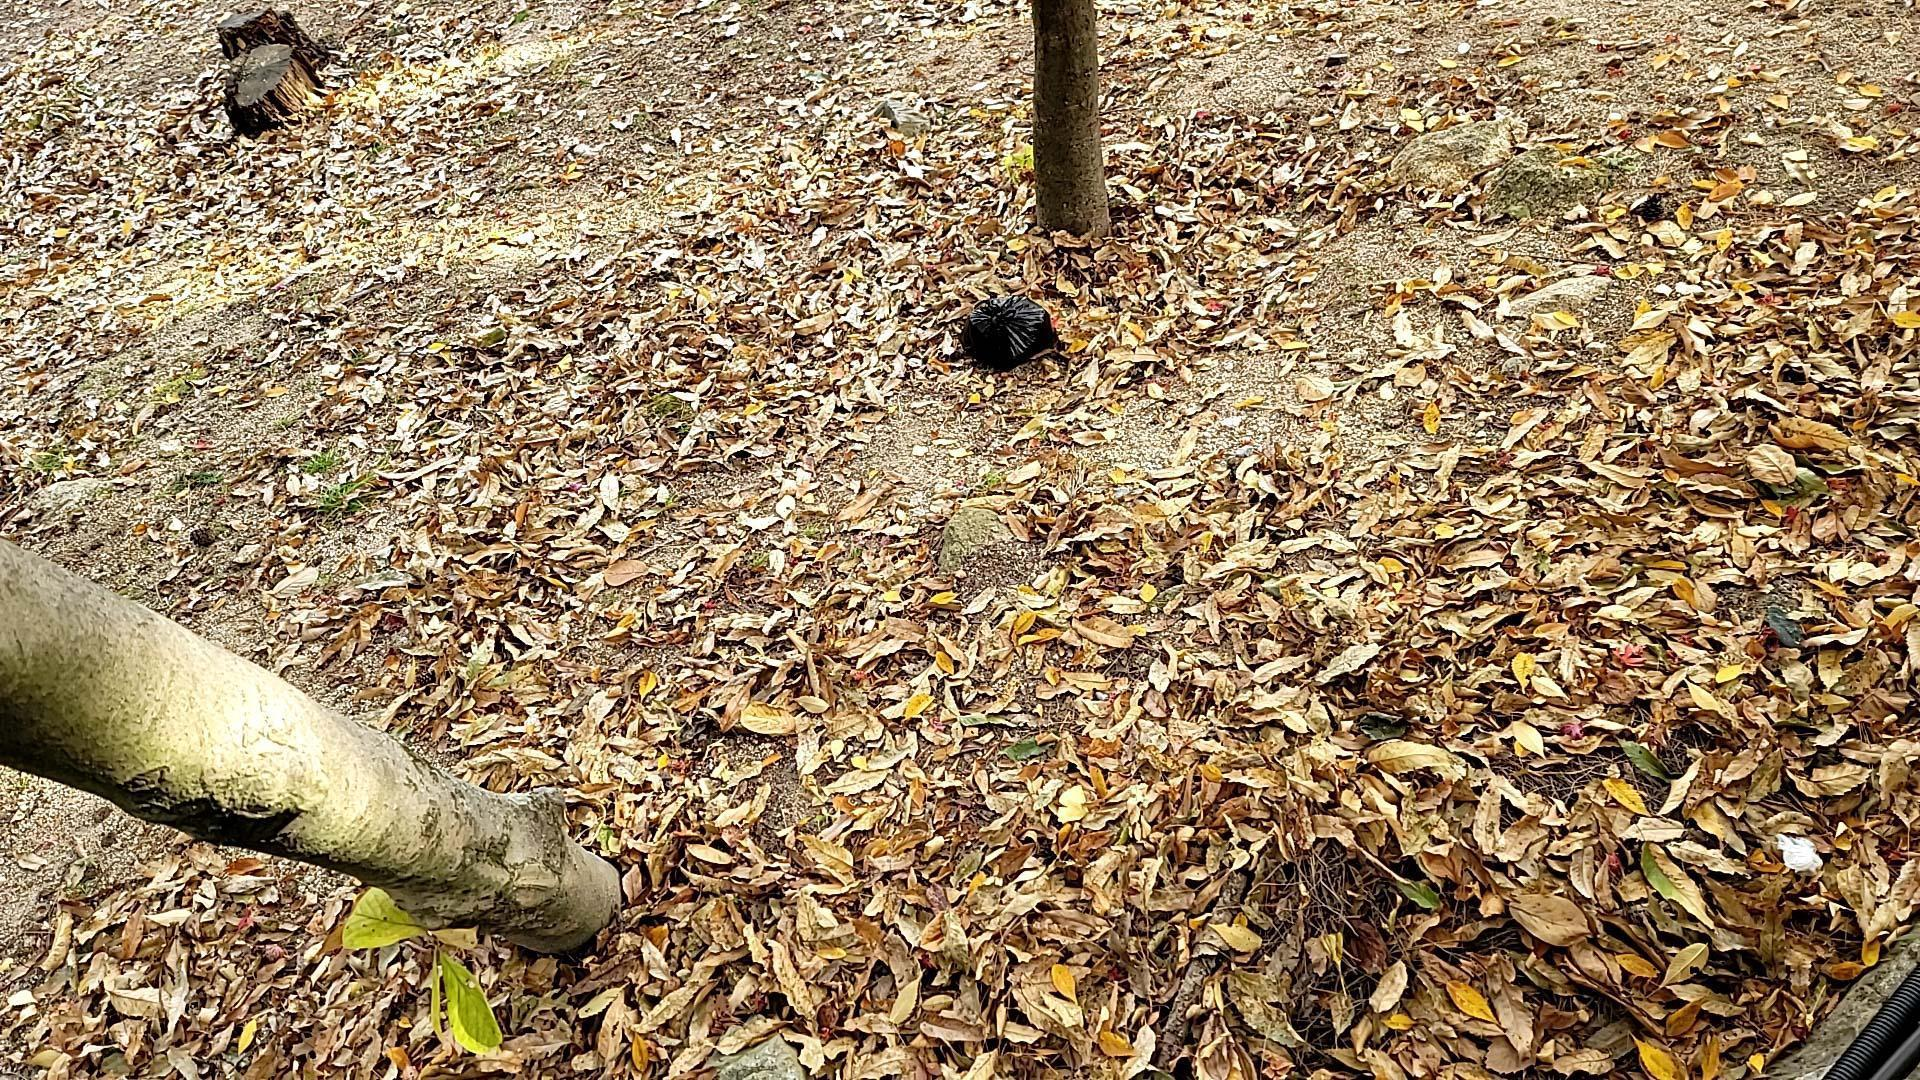black_bag: (942, 291, 1073, 375)
